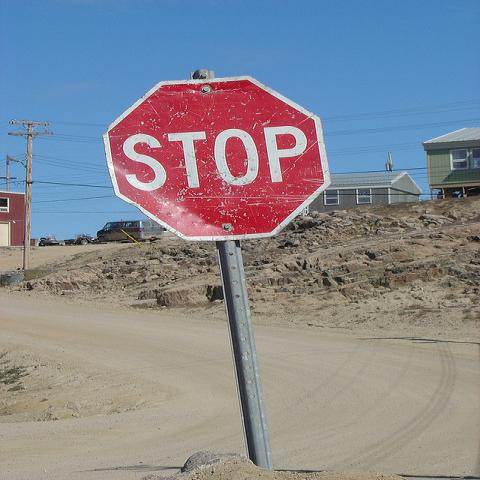car: (96, 218, 163, 243)
